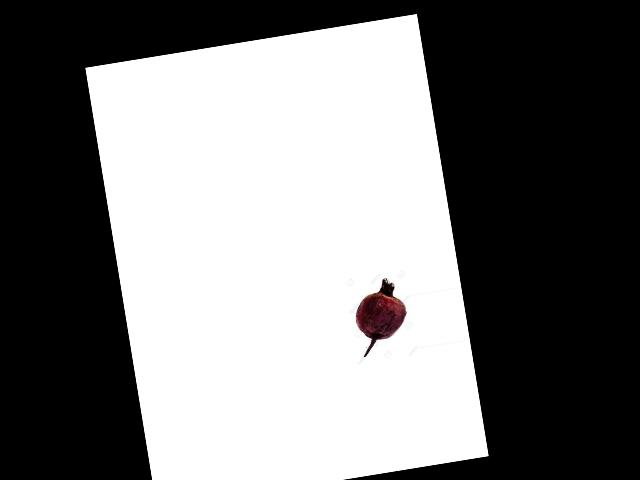beet: (350, 276, 411, 356)
